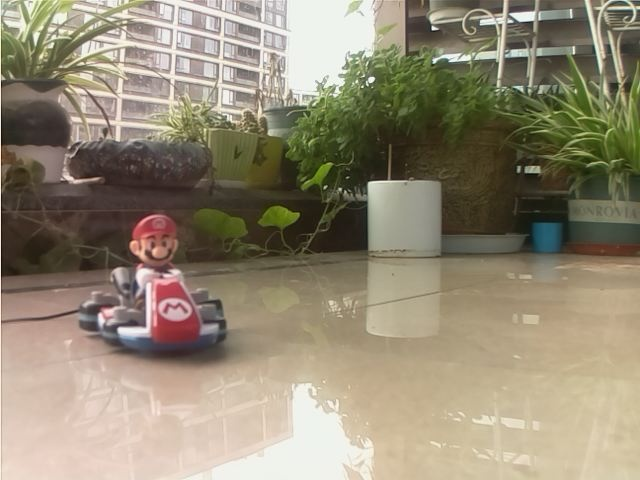mario: (75, 207, 243, 366)
